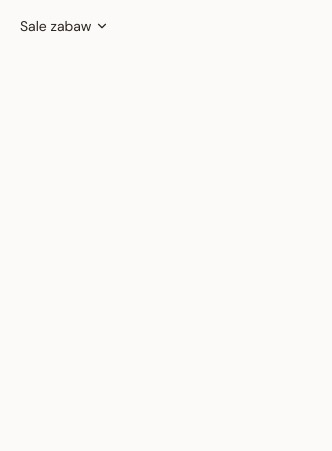
Test: BreadcrumbCategoryDropdown — liczniki po dociagnieciu katalogu (AF-1-081) › po zaladowaniu przelicza Wszystkie i kategorie biezacego wojewodztwa
The width and height of the screenshot is (332, 451).
What coordinates should you click on to do the following:
click the button "Sale zabaw"
I would click on:
 (65, 26)
Its box is [12,12,118,40].
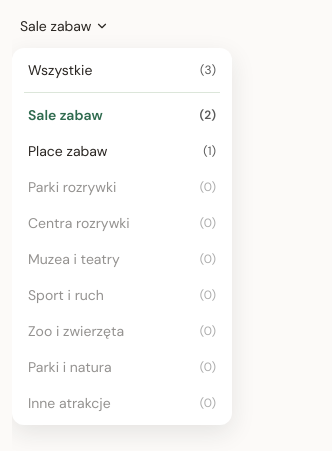
Result: the link "Sale zabaw (2)" is shown at [28,106,216,124]
Result: the link "Place zabaw (1)" is shown at [28,142,216,160]
